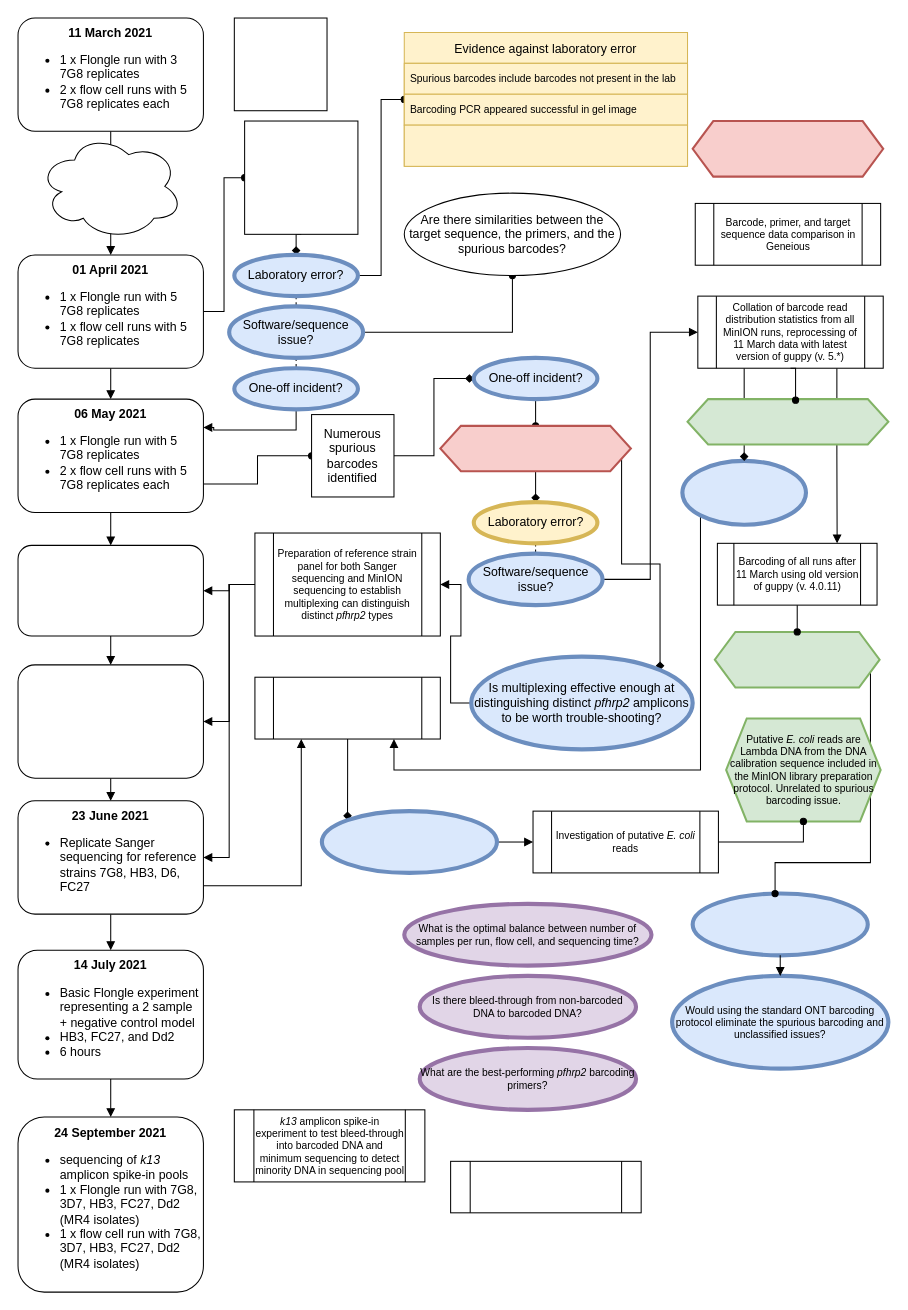
Some shapes in this 908 by 1310 pixel diagram are drawn without their labels. The shapes that lost their labels are listed below. From the top down, each one's box as (x1, y1, x2, y2) in pixels, then its label:
(233, 17, 327, 111): NOTE Expected demultiplexing results given used barcodes
(403, 124, 688, 166): New MinION user supervised by experienced MinION user
(691, 119, 884, 177): No meaningful similarities between barcodes, primers, and target sequence
(38, 132, 183, 239): guppy software update v. 4.0.9 to v. 4.3.4
(244, 120, 358, 234): Numerous spurious barcodes identified in contrast to 11 March output
(686, 398, 889, 445): Spurious barcodes appear in 11 March data when barcoded using guppy v. 5.*
(439, 424, 631, 472): Spurious barcodes not an isolated incident
(680, 458, 808, 526): Why are there so many unclassified reads?
(17, 544, 203, 636): 25 May 2021 Sanger sequencing for reference strains 3D7, 7G8, HB3, D6, FC27
(713, 630, 880, 688): Spurious barcode issue nearly eliminated with use of guppy v. 4.0.11
(17, 664, 203, 778): 08 June 2021 1 x flow cell run with 5 reference strains: 3D7, 7G8, HB3, D6, FC27
(254, 676, 440, 739): Exploration of "unclassified" reads
(319, 809, 499, 874): Why do there appear to be E. coli sequences in the unclassified reads?
(690, 891, 869, 957): Why are there still so many unclassified reads
(450, 1160, 641, 1213): in vitro test of all barcoding primers to assess performance
